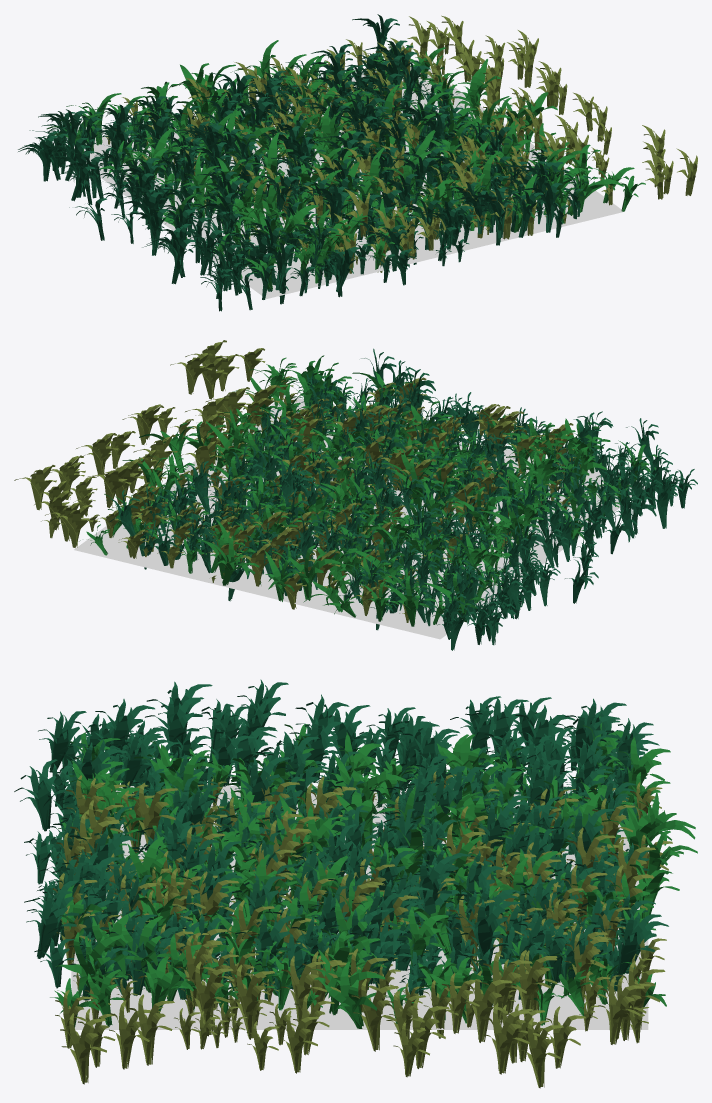
Rendered from grass2.fbx.
The picture shows the model from 3 angles, top to bottom: view 1: azimuth 30°, elevation 25°; view 2: azimuth 150°, elevation 25°; view 3: azimuth 270°, elevation 25°; orthographic projection. The views are drawn at different scales.
Visible parts, largest first — view 1: Plane.001, Plane.001|Plane.003|Dupli|64.1, Plane.001|Plane.002|Dupli|341, Plane.001|Plane.003|Dupli|85.1, Plane.001|Plane.002|Dupli|413, Plane.001|Plane.002|Dupli|381, Plane.001|Plane.003|Dupli|193.1, Plane.001|Plane.002|Dupli|56, Plane.001|Plane.002|Dupli|282, Plane.001|Plane.003|Dupli|177.1, Plane.001|Plane.003|Dupli|23.1, Plane.001|Plane.002|Dupli|160 (+14 smaller); view 2: Plane.001, Plane.001|Plane.003|Dupli|99.1, Plane.001|Plane.003|Dupli|159.1, Plane.001|Plane.003|Dupli|4.1, Plane.001|Plane.003|Dupli|90.1, Plane.001|Plane.003|Dupli|5.1, Plane.001|Plane|Dupli|188.2, Plane.001|Plane.003|Dupli|58.1, Plane.001|Plane|Dupli|117.2, Plane.001|Plane.003|Dupli|31.1, Plane.001|Plane|Dupli|221.2, Plane.001|Plane.003|Dupli|75.1 (+15 smaller); view 3: Plane.001, Plane.001|Plane.003|Dupli|64.1, Plane.001|Plane.003|Dupli|75.1, Plane.001|Plane.002|Dupli|341, Plane.001|Plane.002|Dupli|160, Plane.001|Plane.002|Dupli|379, Plane.001|Plane|Dupli|144.2, Plane.001|Plane.002|Dupli|64, Plane.001|Plane|Dupli|67.2, Plane.001|Plane|Dupli|160.2, Plane.001|Plane.002|Dupli|87, Plane.001|Plane.003|Dupli|99.1 (+99 smaller).
Boxes of the visible parts, box(x1,y1,x2,y2) form: Plane.001: box(66, 60, 623, 298); Plane.001|Plane.003|Dupli|64.1: box(564, 159, 623, 215); Plane.001|Plane.002|Dupli|341: box(518, 182, 569, 232); Plane.001|Plane.003|Dupli|85.1: box(235, 173, 285, 235); Plane.001|Plane.002|Dupli|413: box(253, 242, 301, 290); Plane.001|Plane.002|Dupli|381: box(467, 187, 519, 238); Plane.001|Plane.003|Dupli|193.1: box(265, 205, 317, 249); Plane.001|Plane.002|Dupli|56: box(126, 208, 173, 255); Plane.001|Plane.002|Dupli|282: box(500, 190, 545, 237); Plane.001|Plane.003|Dupli|177.1: box(444, 68, 486, 118); Plane.001|Plane.003|Dupli|23.1: box(244, 132, 293, 183); Plane.001|Plane.002|Dupli|160: box(319, 247, 366, 291); Plane.001: box(74, 395, 650, 639); Plane.001|Plane.003|Dupli|99.1: box(281, 545, 340, 600); Plane.001|Plane.003|Dupli|159.1: box(202, 535, 259, 585); Plane.001|Plane.003|Dupli|4.1: box(378, 575, 435, 626); Plane.001|Plane.003|Dupli|90.1: box(478, 496, 543, 544); Plane.001|Plane.003|Dupli|5.1: box(546, 446, 606, 493); Plane.001|Plane|Dupli|188.2: box(87, 465, 131, 508); Plane.001|Plane.003|Dupli|58.1: box(348, 537, 413, 583); Plane.001|Plane|Dupli|117.2: box(14, 465, 56, 510); Plane.001|Plane.003|Dupli|31.1: box(380, 458, 443, 511); Plane.001|Plane|Dupli|221.2: box(51, 504, 93, 547); Plane.001|Plane.003|Dupli|75.1: box(139, 423, 198, 472); Plane.001: box(71, 786, 648, 1029); Plane.001|Plane.003|Dupli|64.1: box(55, 932, 122, 997); Plane.001|Plane.003|Dupli|75.1: box(322, 961, 377, 1028); Plane.001|Plane.002|Dupli|341: box(26, 890, 76, 958); Plane.001|Plane.002|Dupli|160: box(14, 759, 67, 831); Plane.001|Plane.002|Dupli|379: box(604, 912, 661, 974); Plane.001|Plane|Dupli|144.2: box(226, 964, 274, 1039); Plane.001|Plane.002|Dupli|64: box(452, 899, 521, 962); Plane.001|Plane|Dupli|67.2: box(483, 1002, 529, 1074); Plane.001|Plane|Dupli|160.2: box(60, 1013, 106, 1084); Plane.001|Plane.002|Dupli|87: box(145, 697, 203, 759); Plane.001|Plane.003|Dupli|99.1: box(602, 800, 695, 851).
Size of the model in its own units: 287 by 43.54 by 237.
